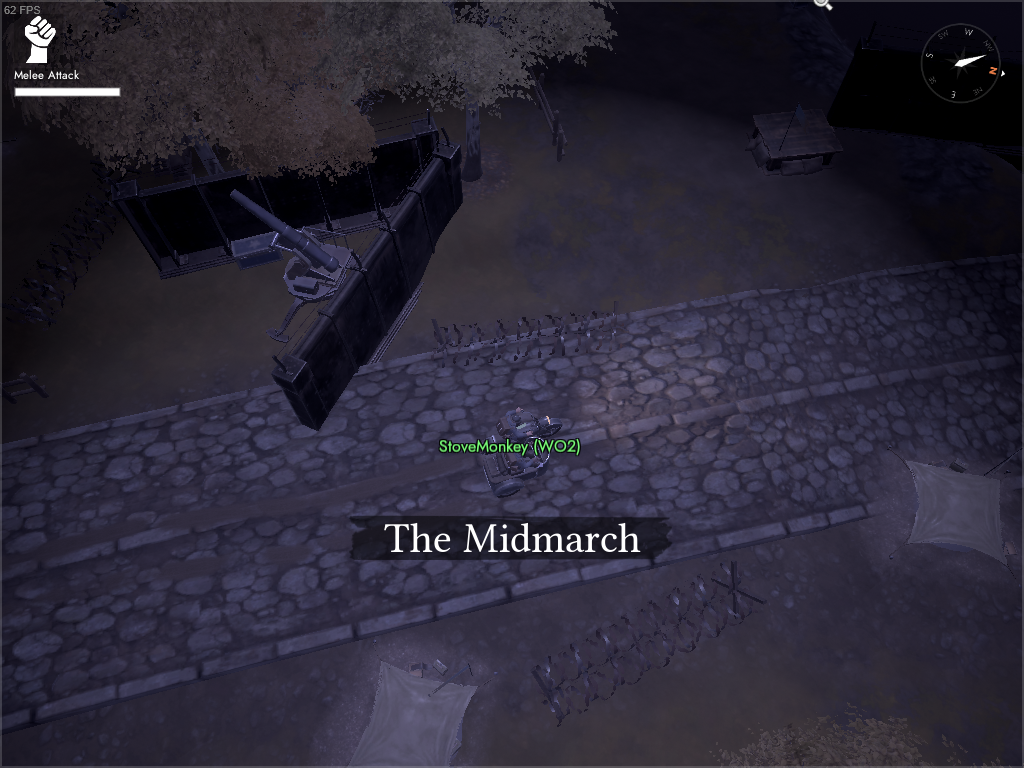fortified_wall: (266, 123, 473, 435), (106, 105, 448, 284)
foxhole: (873, 431, 1024, 596), (333, 639, 505, 768)
howitzer: (224, 182, 373, 346)
motorcycle: (470, 404, 568, 500)
pillbox: (742, 93, 848, 187)
player: (489, 404, 539, 444), (495, 439, 544, 479)
storage_box: (225, 227, 289, 275)
wire: (517, 554, 775, 733), (10, 152, 146, 332), (422, 298, 629, 374)
